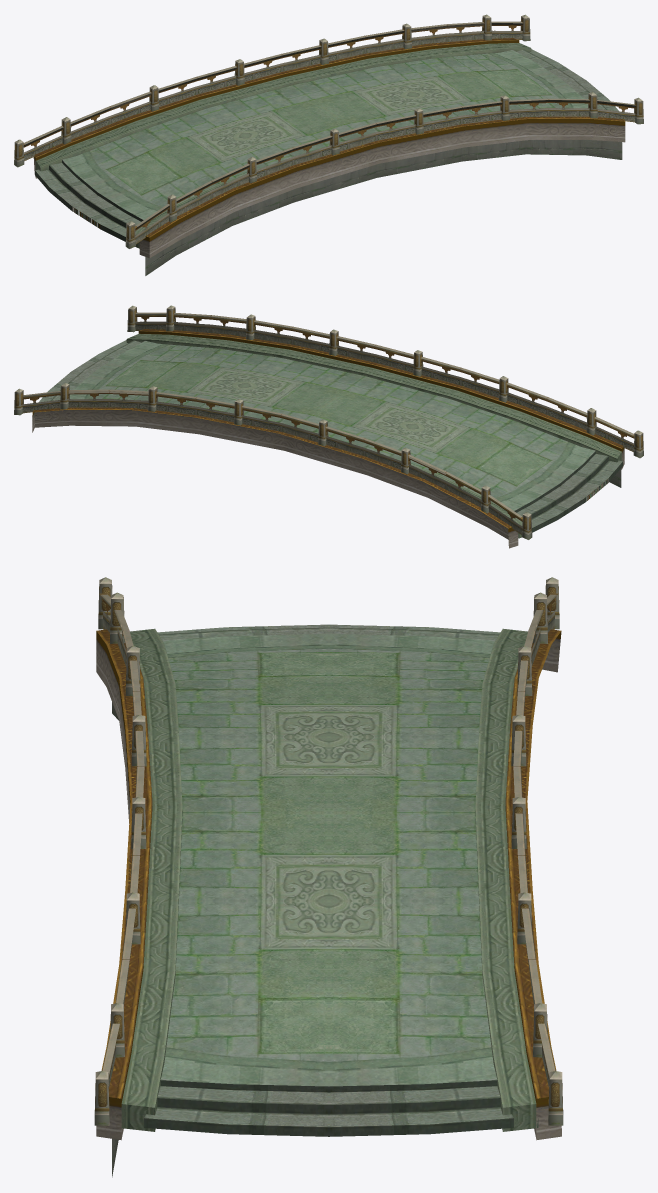
File: fb_chun_qiao03_55_18_2075out.fbx
3 renders of one model, top to bottom at view 1: azimuth 30°, elevation 25°; view 2: azimuth 150°, elevation 25°; view 3: azimuth 270°, elevation 25°, orthographic. The views are drawn at different scales.
Parts seen in each view (by area): view 1: fb_chun_qiao03; view 2: fb_chun_qiao03; view 3: fb_chun_qiao03.
Boxes of the visible parts, x1,y1,x2,y2 form: fb_chun_qiao03: (14, 14, 643, 275); fb_chun_qiao03: (14, 305, 643, 548); fb_chun_qiao03: (94, 577, 563, 1177).
Bounding box in the file's own units: 12.85 × 2.26 × 5.06.
